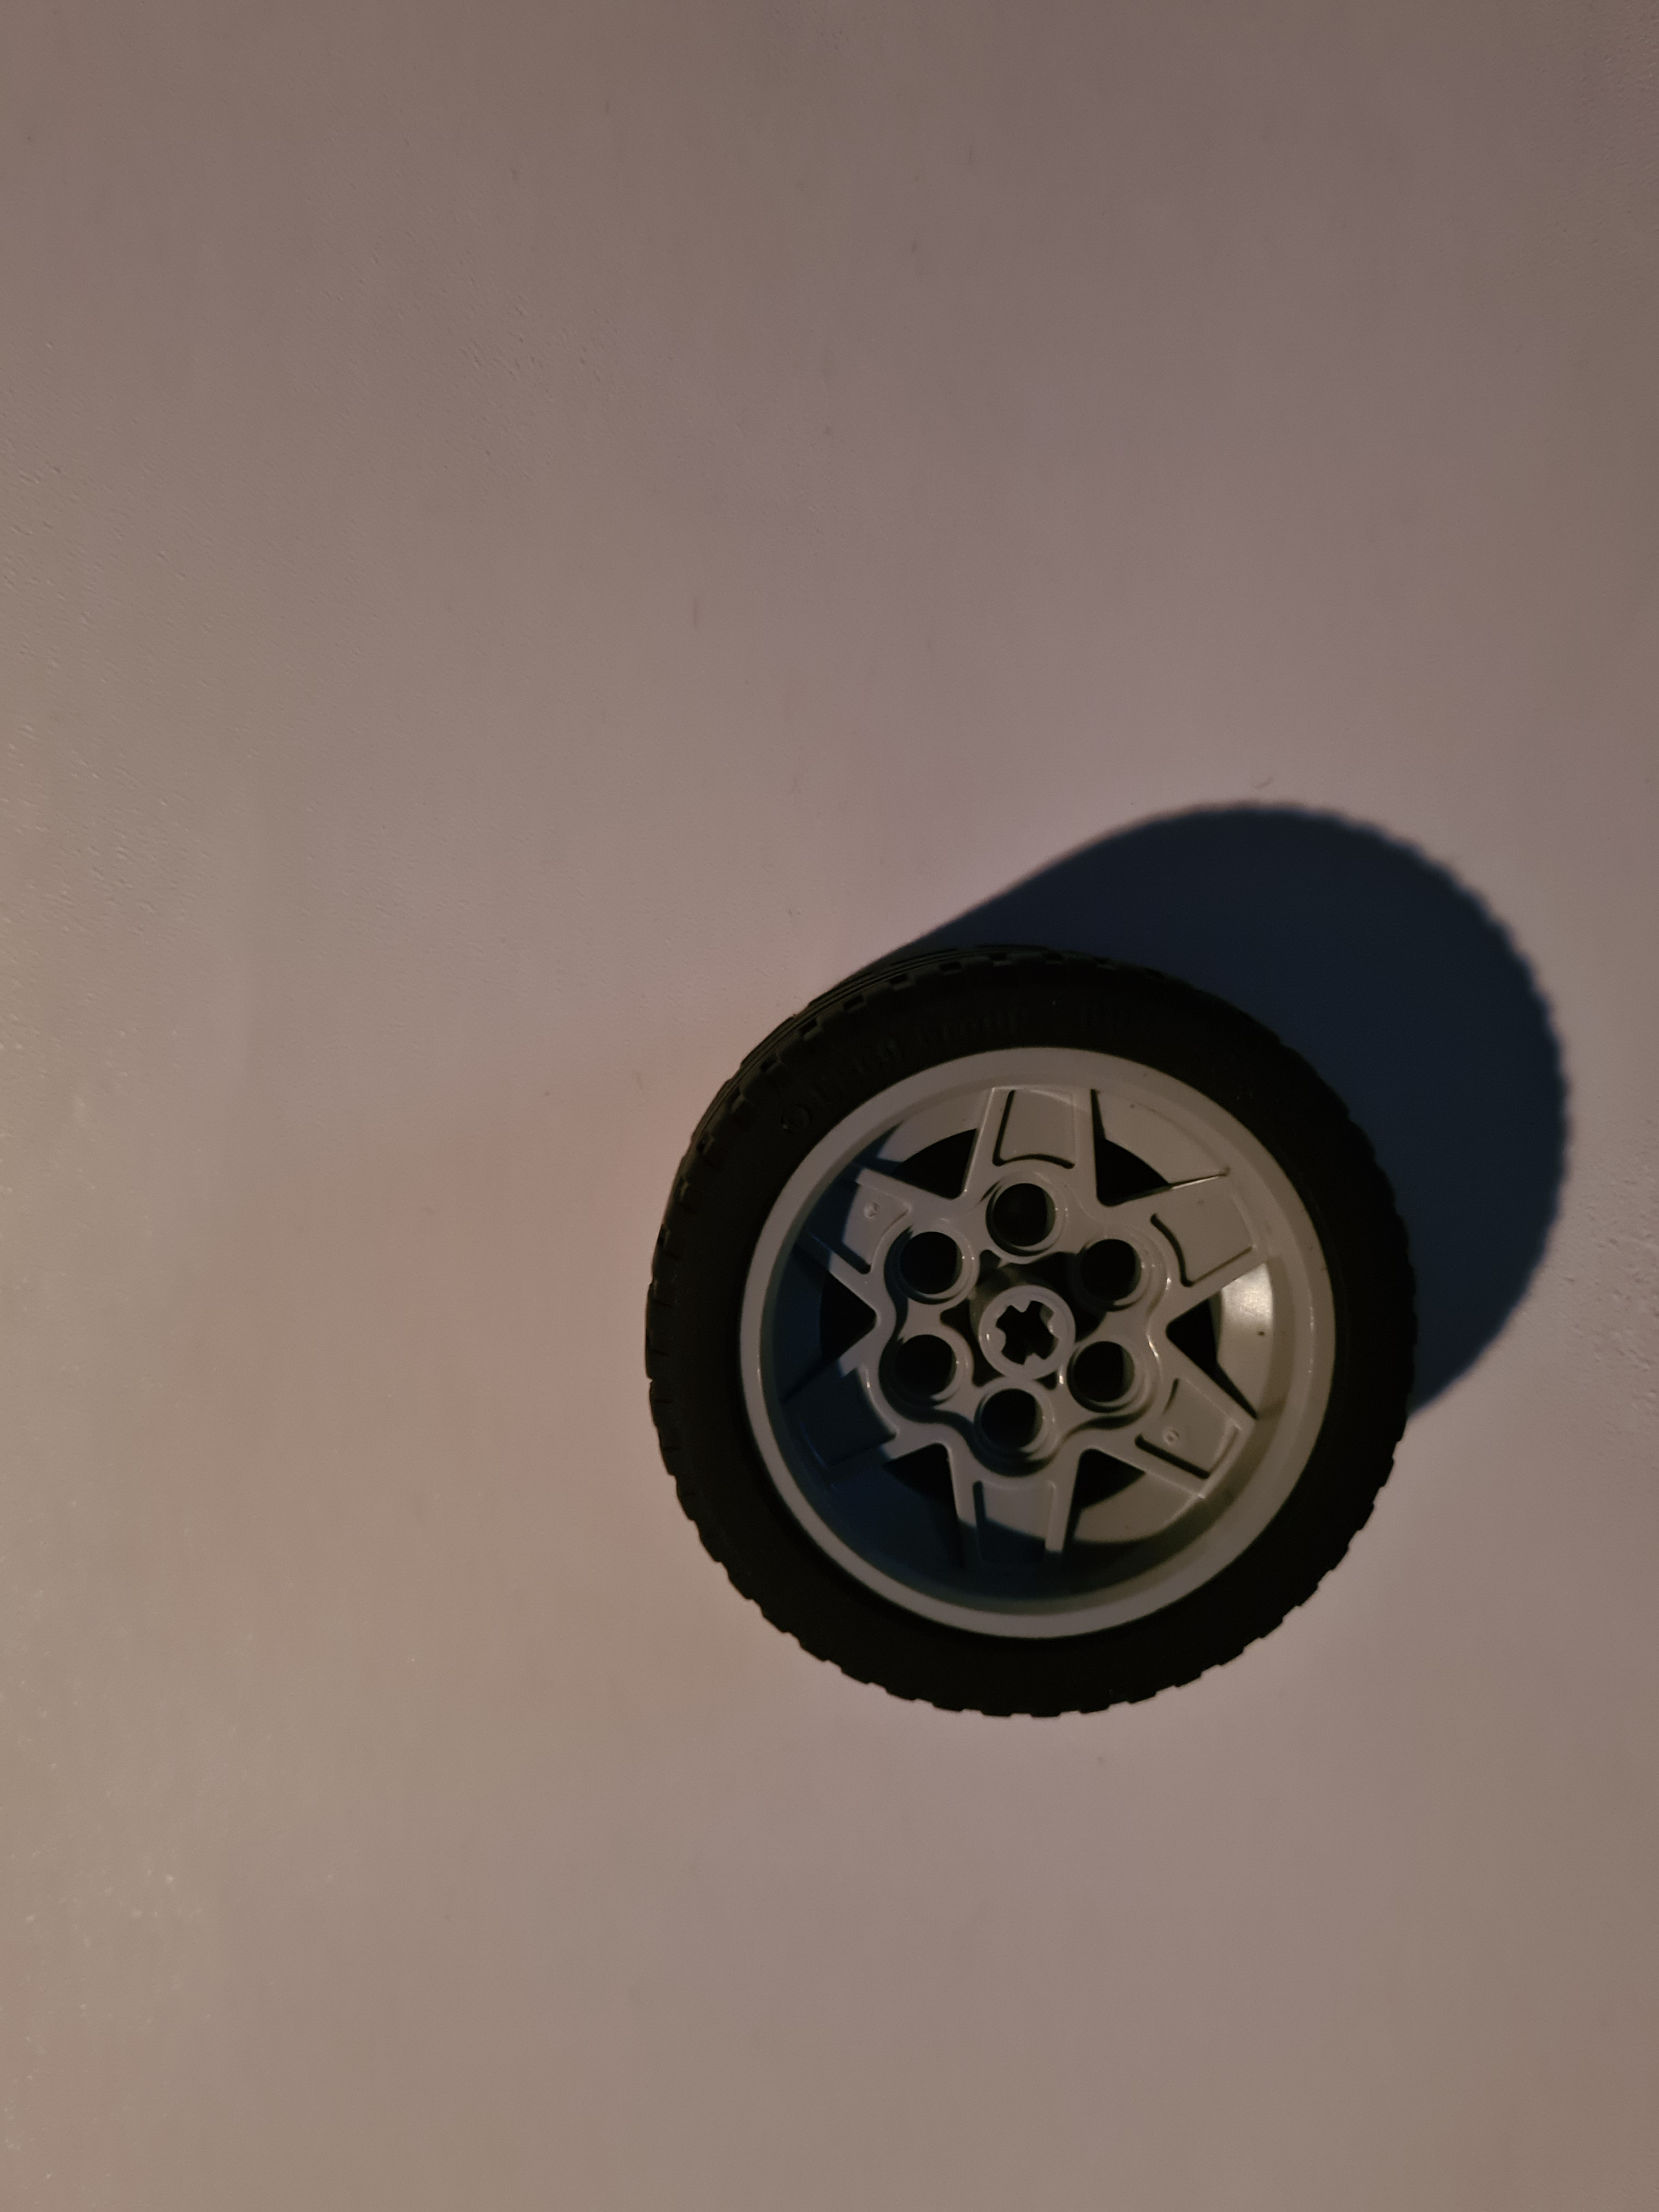Rad: (610, 932, 1436, 1733)
